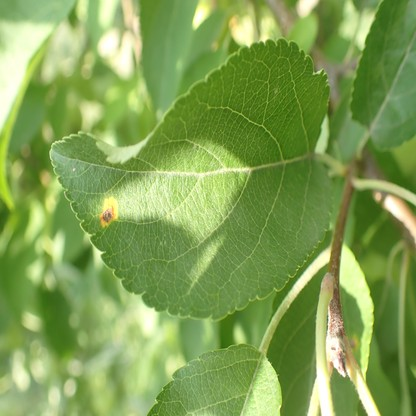rust: (100, 195, 119, 227), (348, 334, 359, 352)
